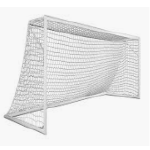goals: (2, 14, 145, 137)
